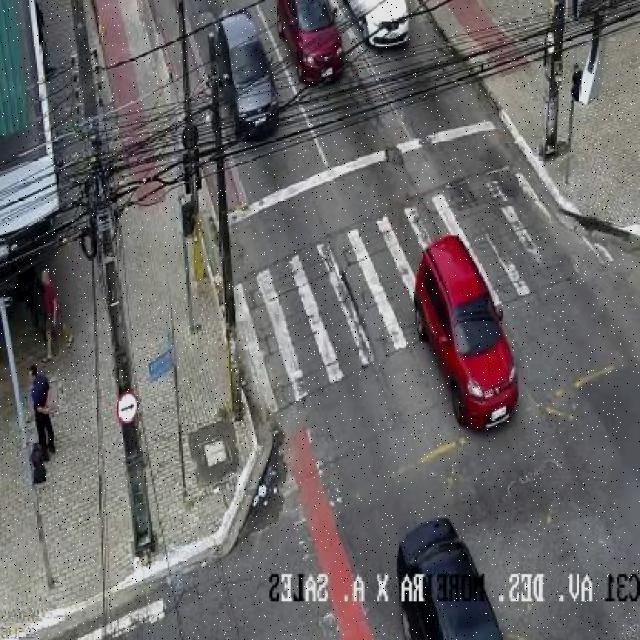Car: (412, 236, 526, 436), (395, 520, 499, 640), (212, 8, 282, 145), (277, 2, 340, 86), (350, 0, 418, 50)
